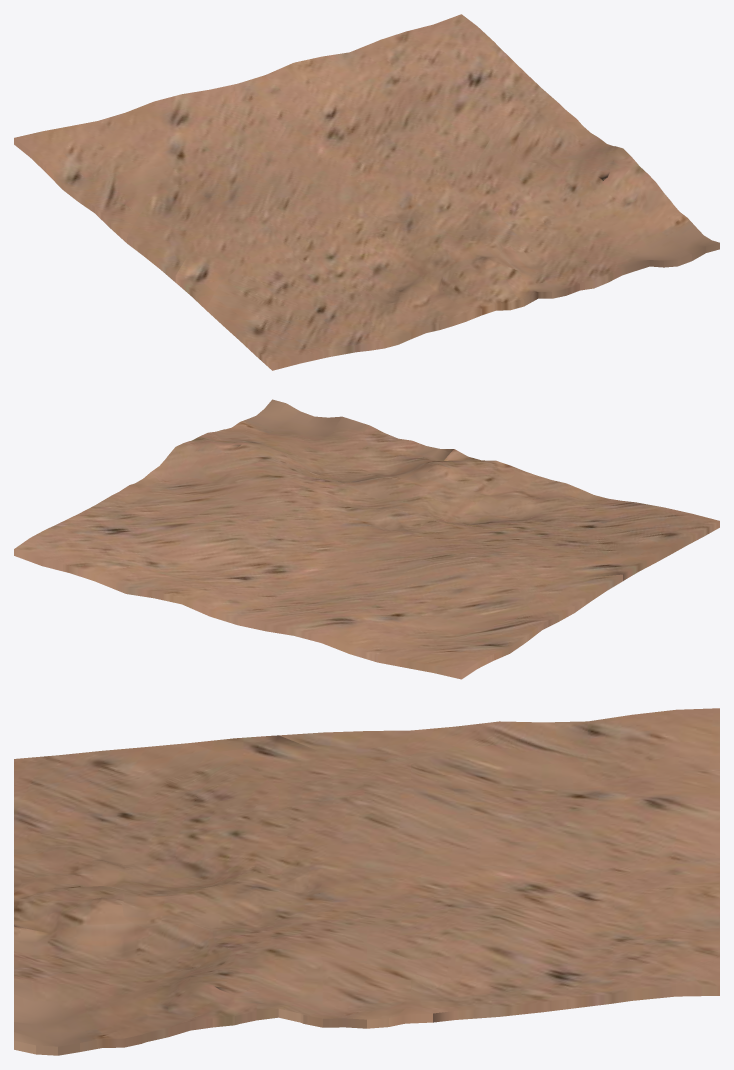
3 views of the same model, one above another, from view 1: azimuth 30°, elevation 25°; view 2: azimuth 150°, elevation 25°; view 3: azimuth 270°, elevation 25° (orthographic). The views are drawn at different scales.
Bounding box in the file's own units: 2 × 0.2706 × 2.
Materials: 1 (1 with a texture image).
